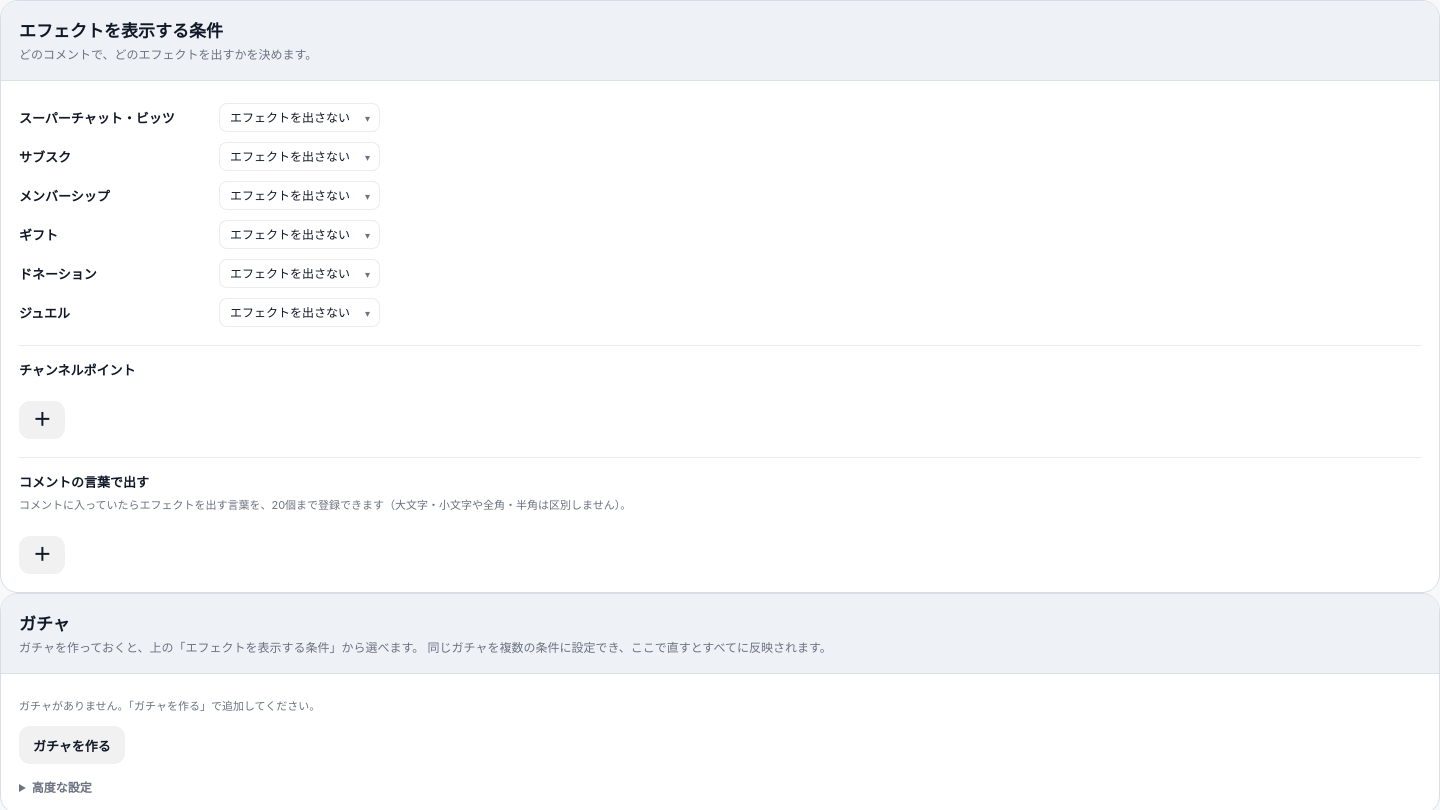
Test: GachaLibraryCard（063d） › ⚠⚠⚠ 報酬ごとの紐づけも列挙される（報酬名で出る）
The width and height of the screenshot is (1440, 810).
Click the button "ガチャを作る" at [72, 745], box [19,726,125,764]
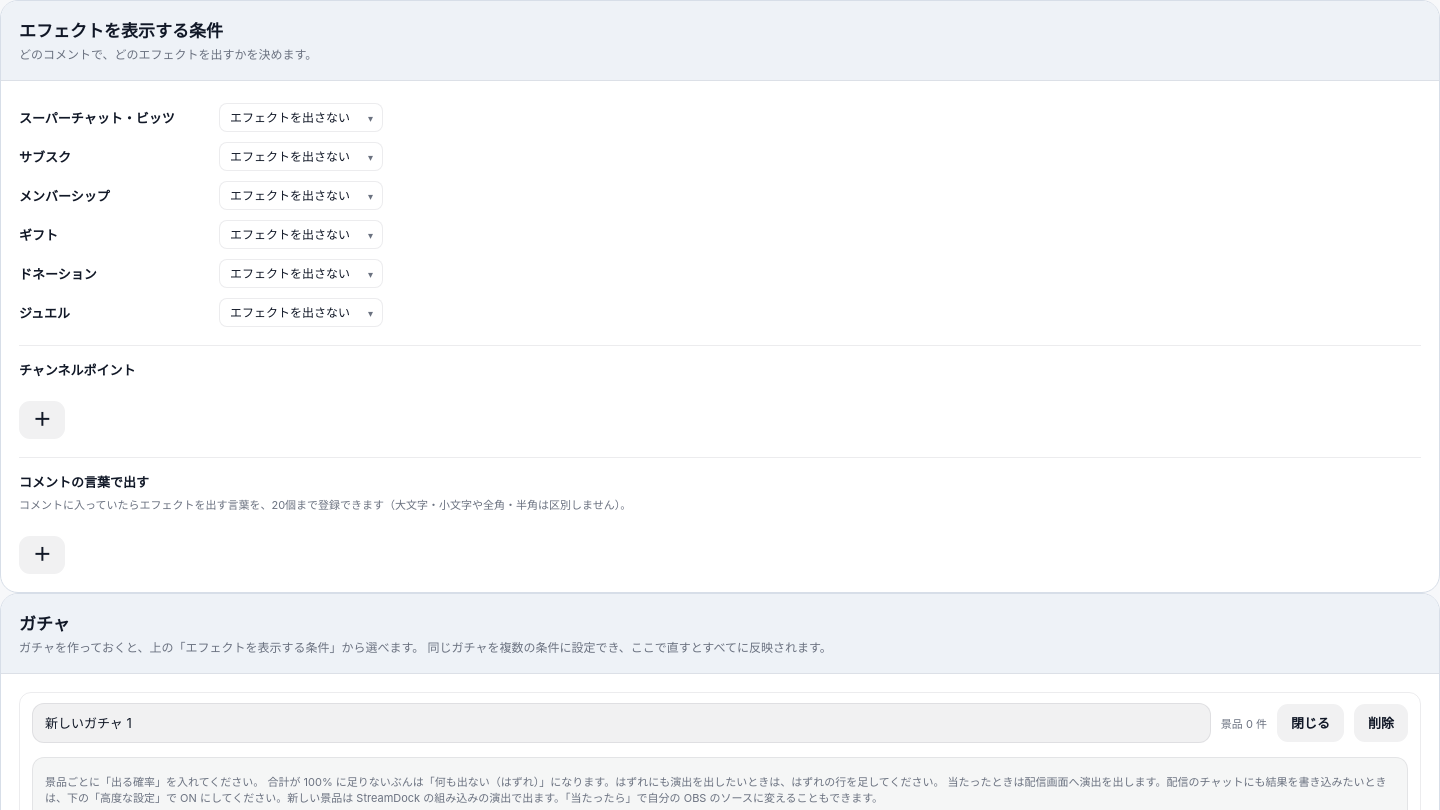
Click the button named "カスタム報酬を追加" at [42, 420], box [19,401,65,439]
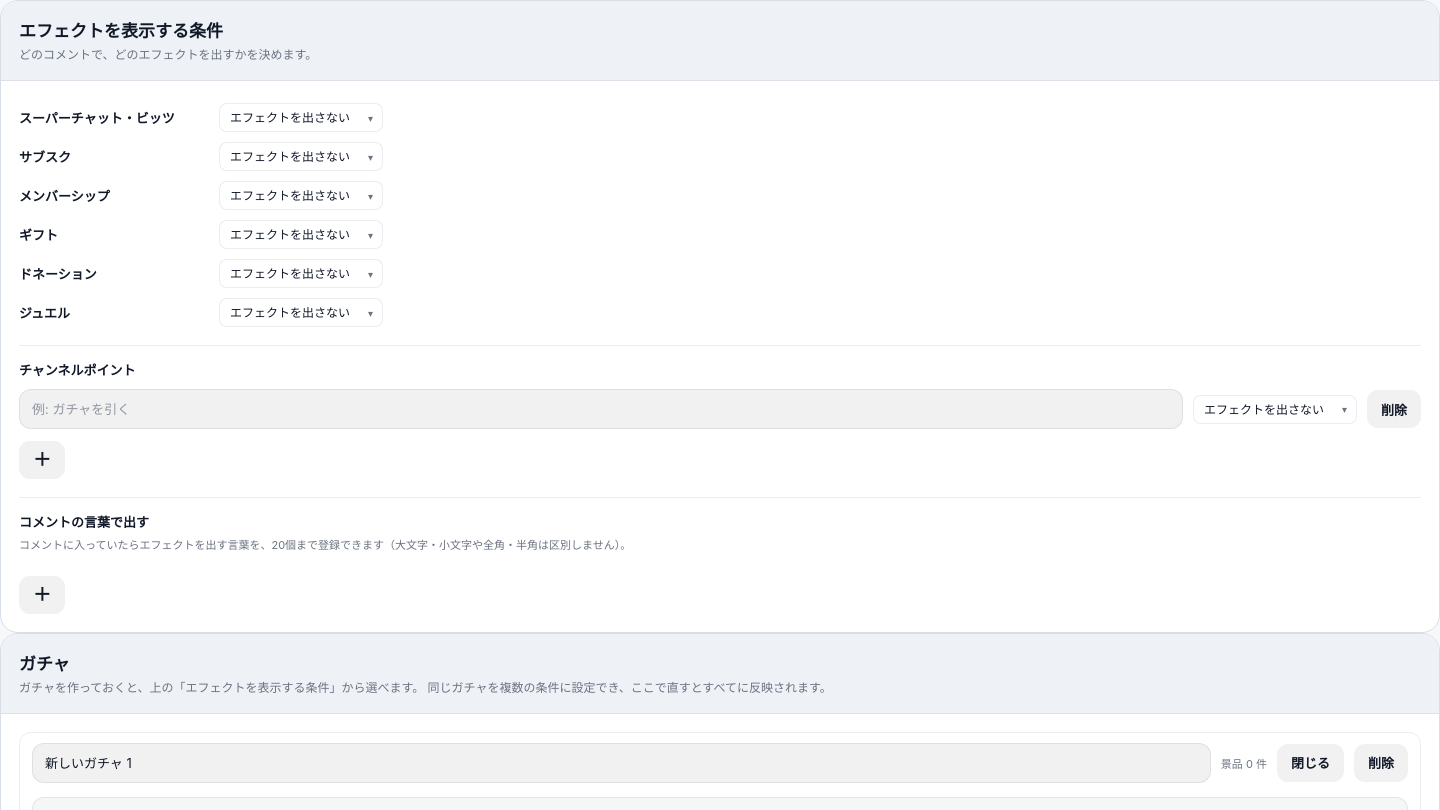
Type "ガチャを引く" into the field named "カスタム報酬の名前 1" at [601, 409], box [19,389,1183,429]
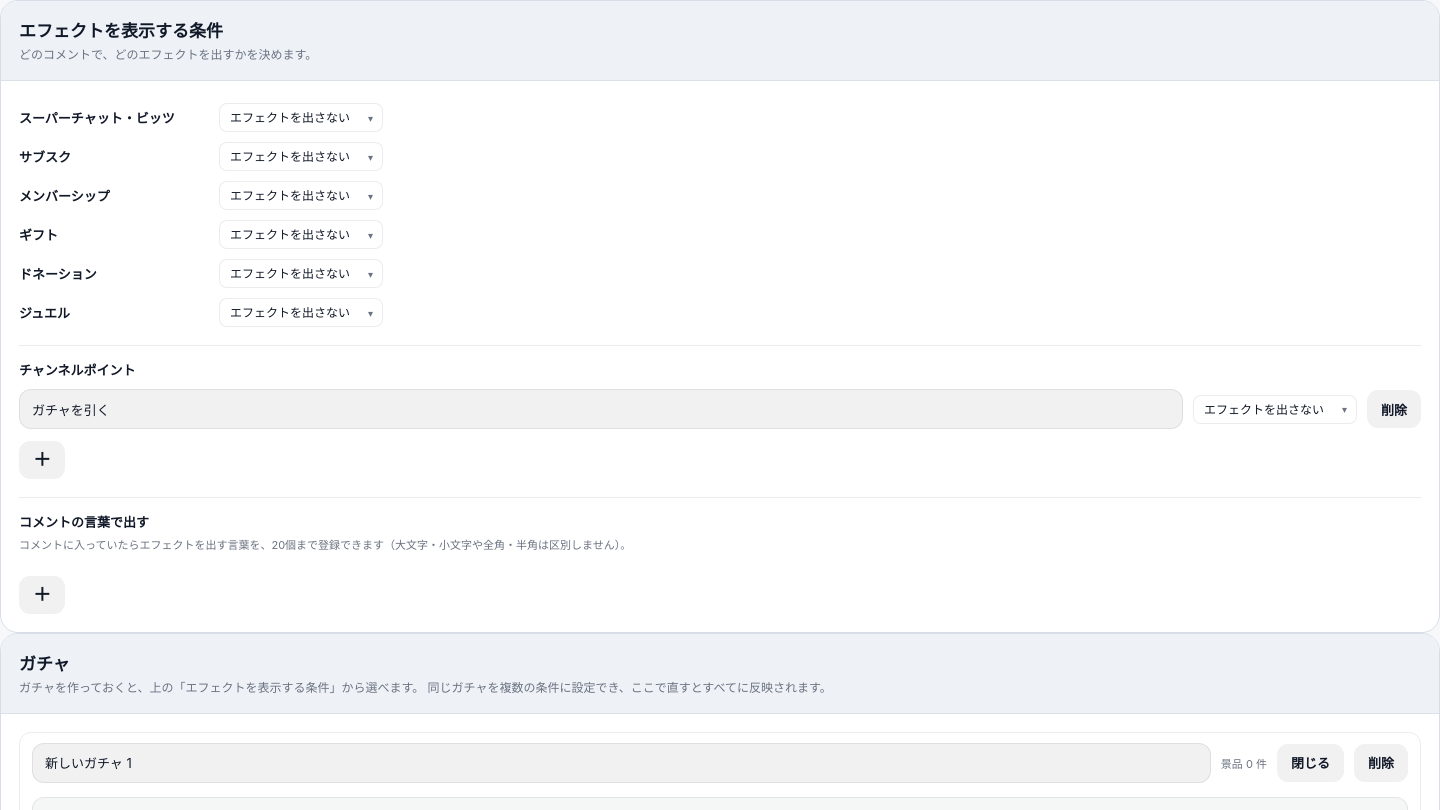
Select "ガチャ: 新しいガチャ 1" in the dropdown named "カスタム報酬 1 のエフェクト" at [1275, 409], box [1193,394,1357,424]
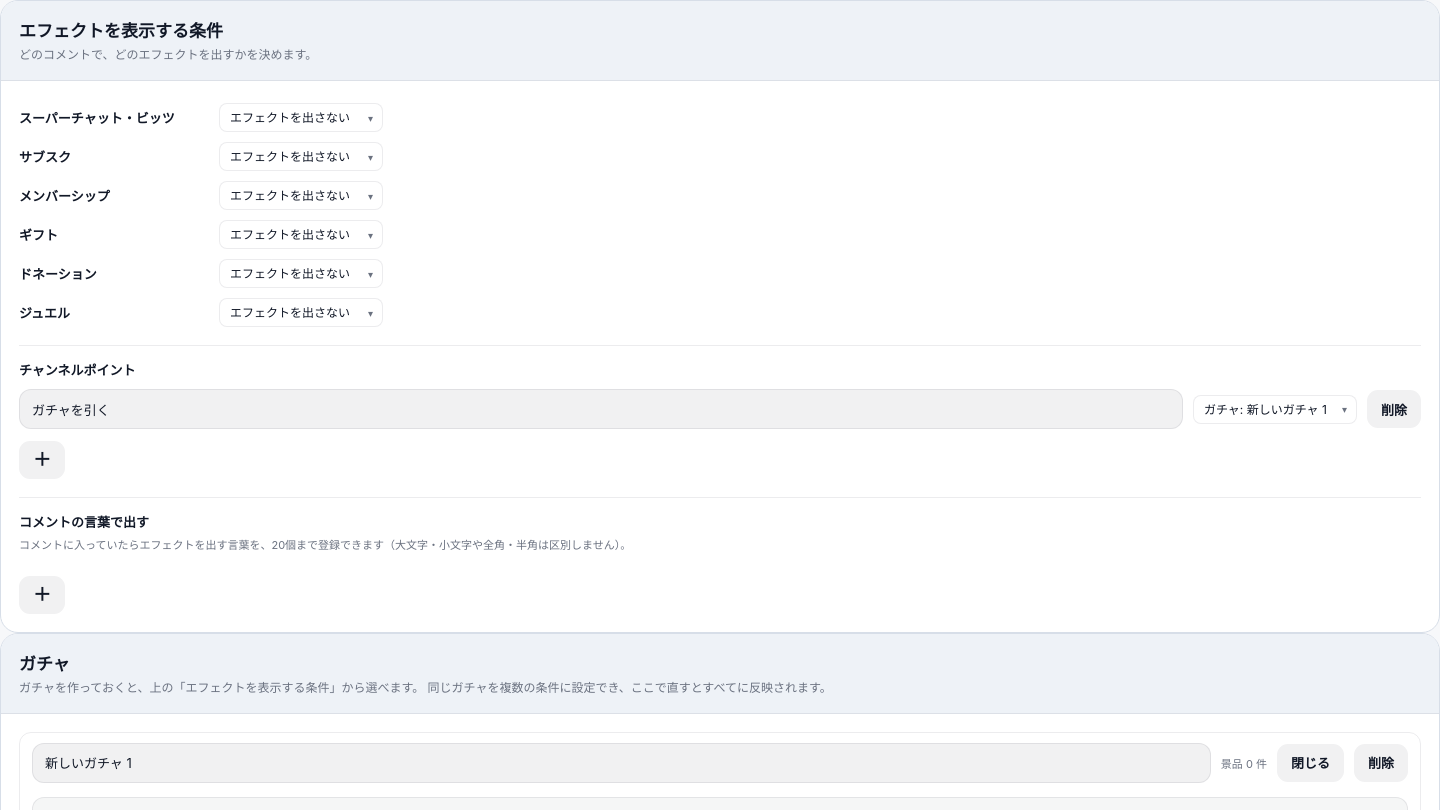
Click the button with aria-label "新しいガチャ 1 を削除" at [1381, 762], box [1354,744,1408,782]
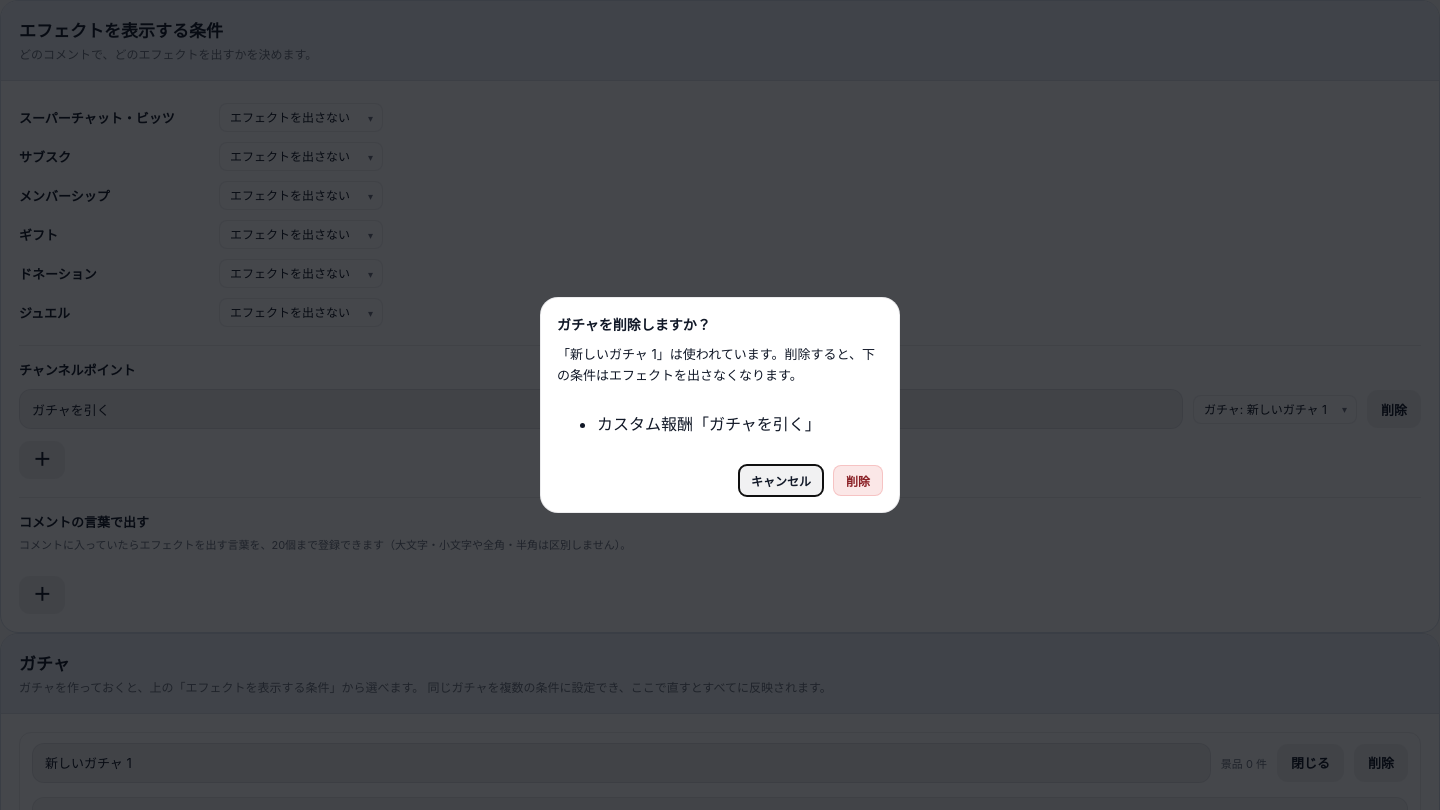
Result: the list item "カスタム報酬「ガチャを引く」" is shown at [597,414,821,434]
